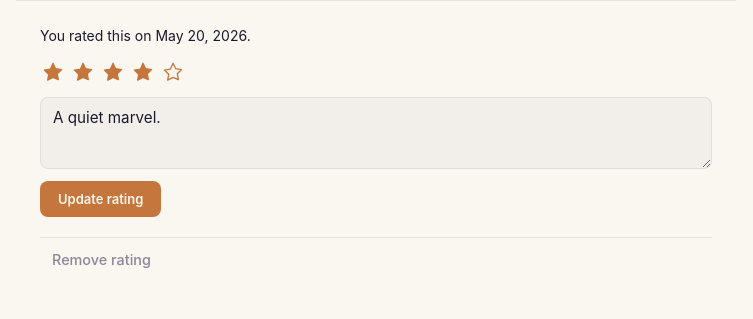
RatingControl — AC-6: optimistic update, reconcile, honest rollback › on publish failure, rolls back to the prior score and shows an honest in-place error (no false 'saved', no toast)
Click the button named "rate 5 of 5" at x=173, y=72, box left=160, top=59, right=186, bottom=85
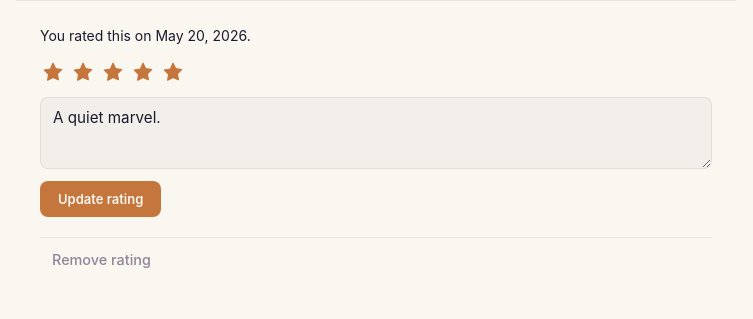
Click the button "Update rating" at x=101, y=199, box left=40, top=181, right=161, bottom=217
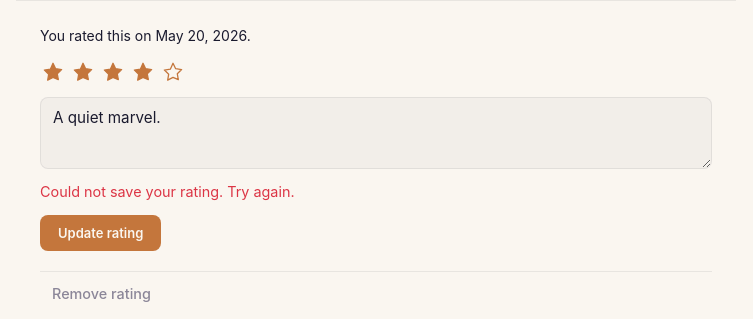
Expected: the message "Could not save your rating. Try again." is shown, left=40, top=183, right=295, bottom=200
